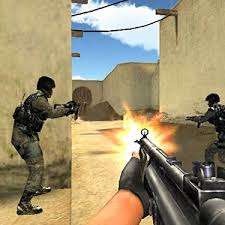gun: (133, 126, 224, 223), (53, 99, 79, 120), (184, 114, 206, 126)
